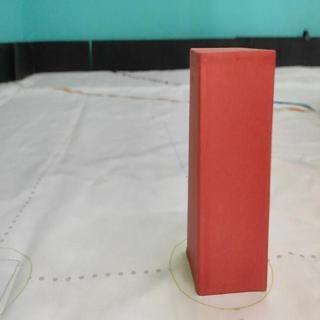redbox: (187, 45, 277, 297)
